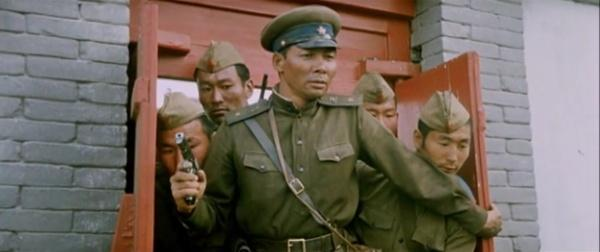Gun: (174, 133, 202, 205)
